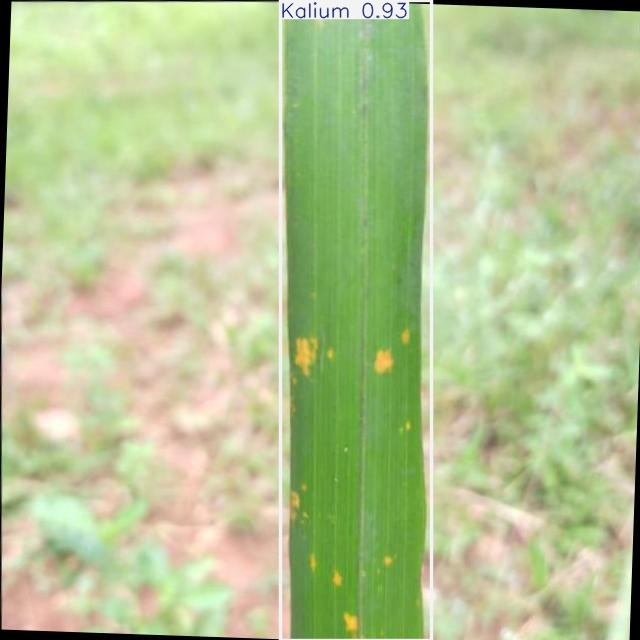Kalium: (280, 0, 432, 640)
